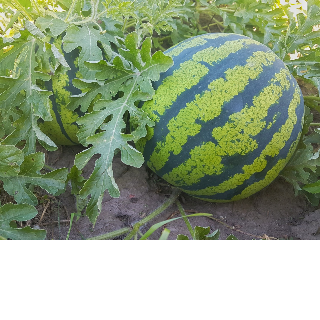dua_hau: (129, 30, 306, 205)
